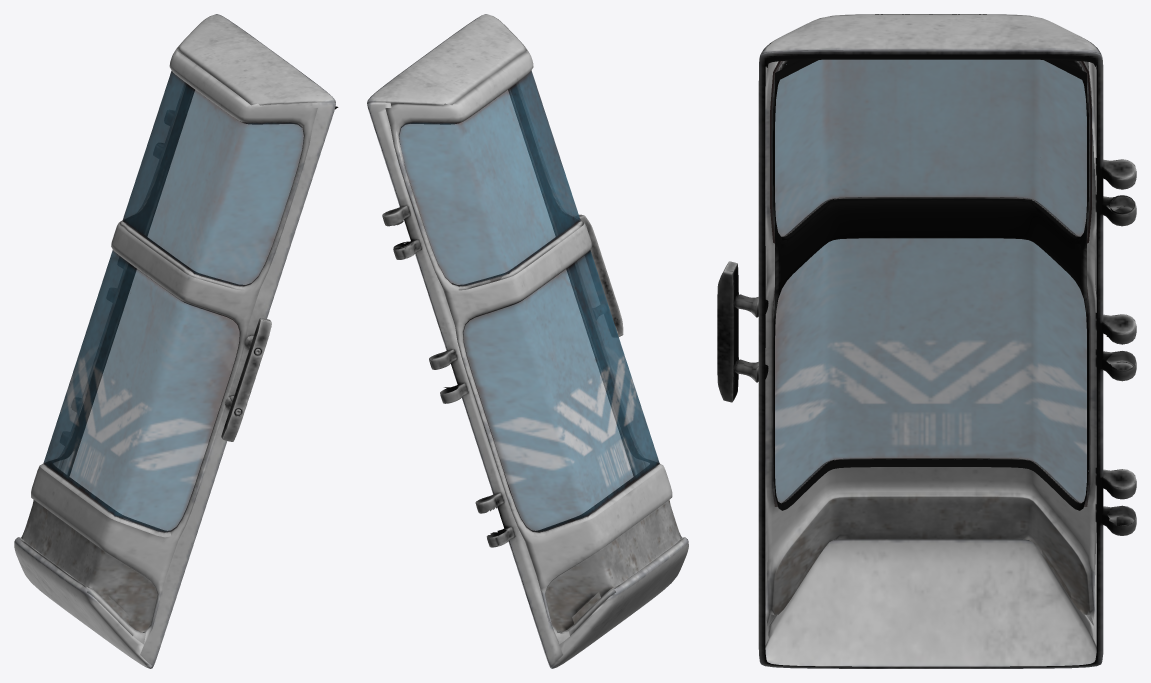
The model's file is SM_Cryo_Cod_Door.fbx.
3 renders of one model, left to right at view 1: azimuth 30°, elevation 25°; view 2: azimuth 150°, elevation 25°; view 3: azimuth 270°, elevation 25°, orthographic. The views are drawn at different scales.
Parts seen in each view (by area): view 1: Cryo_Pod_Door; view 2: Cryo_Pod_Door; view 3: Cryo_Pod_Door.
Part boxes in pixels (x1=…): Cryo_Pod_Door: x1=14, y1=14, x2=338, y2=668; Cryo_Pod_Door: x1=367, y1=14, x2=688, y2=668; Cryo_Pod_Door: x1=717, y1=14, x2=1136, y2=668.
Size of the model in its own units: 205 by 447 by 227.
2 materials, 2 textured.
